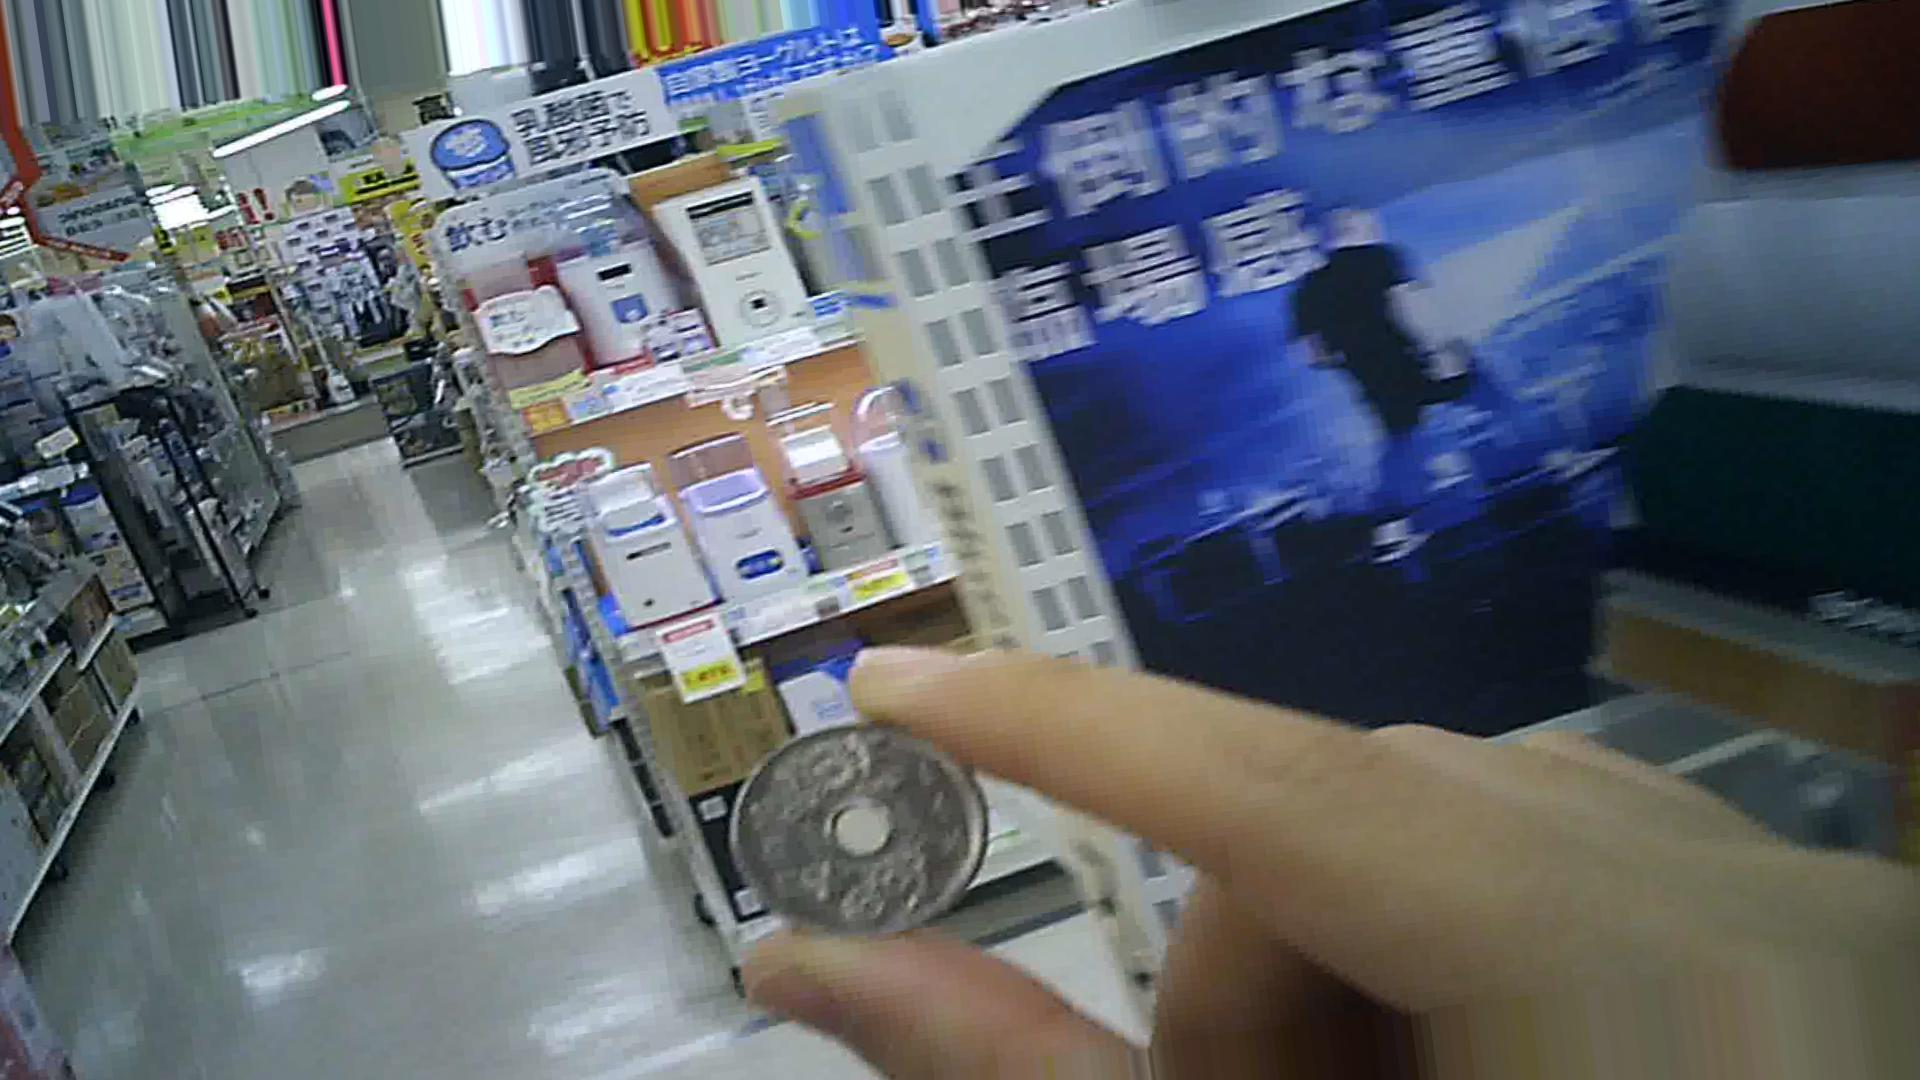50 Yen: (724, 712, 984, 948)
